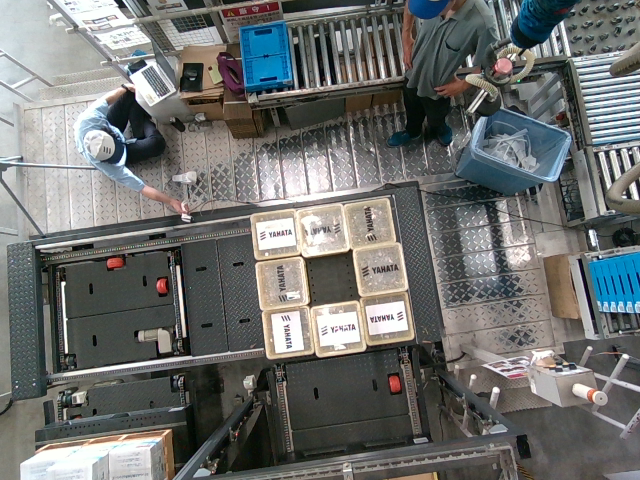box: (251, 209, 301, 256), (257, 258, 307, 305), (261, 309, 311, 356), (310, 304, 360, 351), (360, 293, 410, 340), (354, 247, 404, 294), (345, 201, 395, 248), (294, 206, 344, 253)
